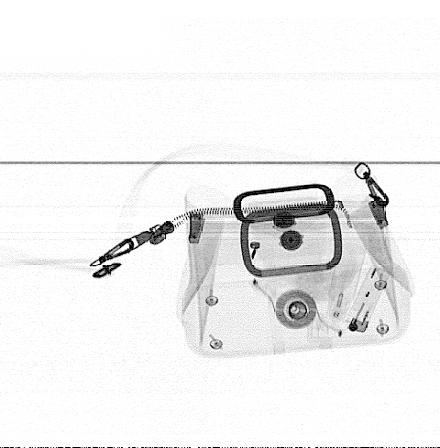Lighter: (341, 265, 392, 334)
